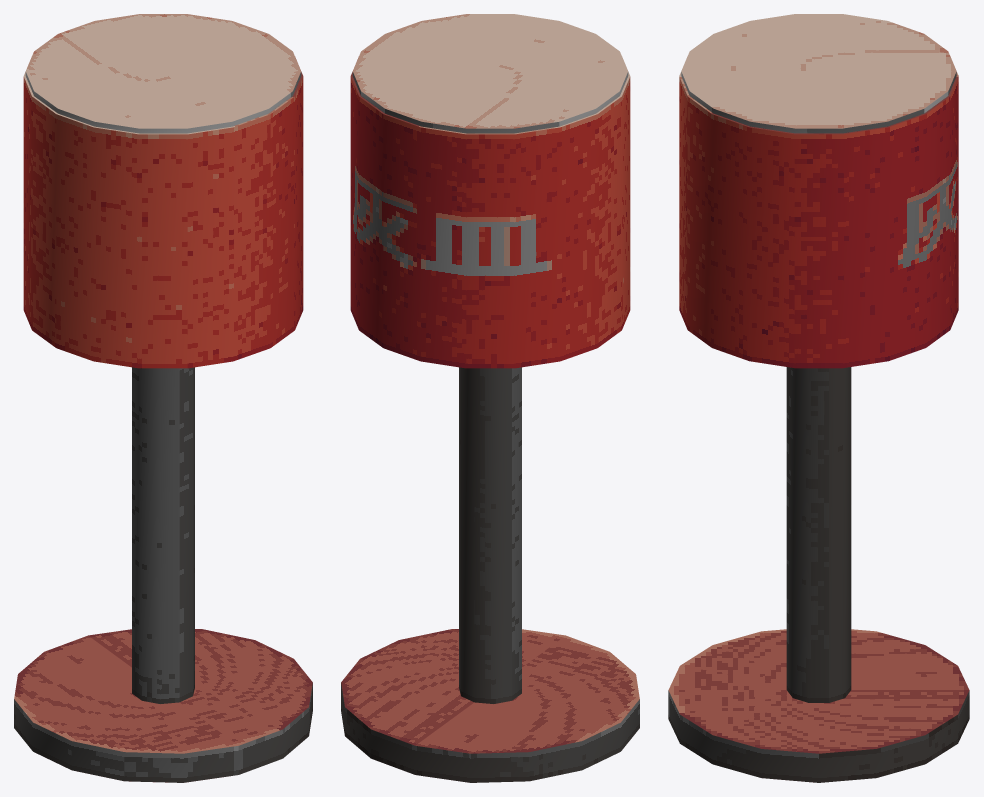
The model's file is ashtray_stand.glb.
The picture shows the model from 3 angles, left to right: view 1: azimuth 30°, elevation 25°; view 2: azimuth 150°, elevation 25°; view 3: azimuth 270°, elevation 25°; orthographic projection.
Parts seen in each view (by area): view 1: mesh; view 2: mesh; view 3: mesh.
Part boxes in pixels (left/top/right/bottom): mesh: left=14, top=14, right=312, bottom=782; mesh: left=341, top=14, right=639, bottom=782; mesh: left=668, top=14, right=969, bottom=782.
Bounding box in the file's own units: 0.28 × 0.665 × 0.28.
Materials: 1 (1 with a texture image).
